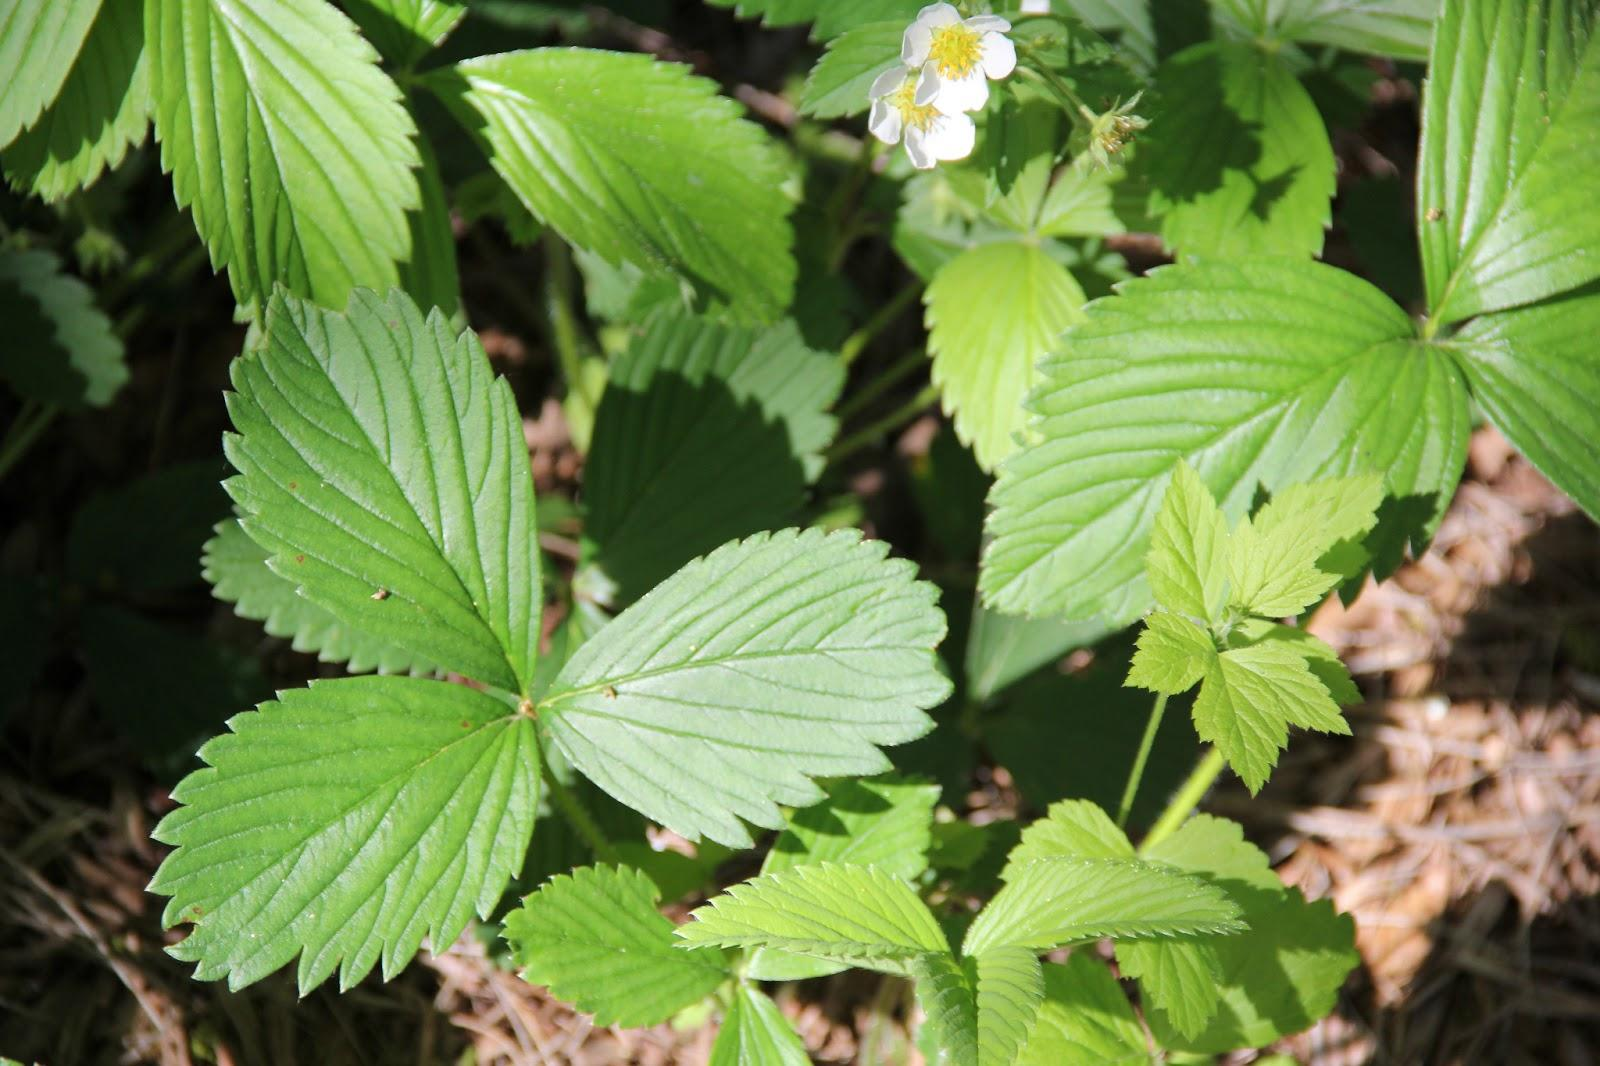Strawberry leaf: (971, 261, 1468, 614), (542, 494, 958, 864), (134, 669, 556, 992), (217, 280, 548, 669), (138, 4, 420, 305)
